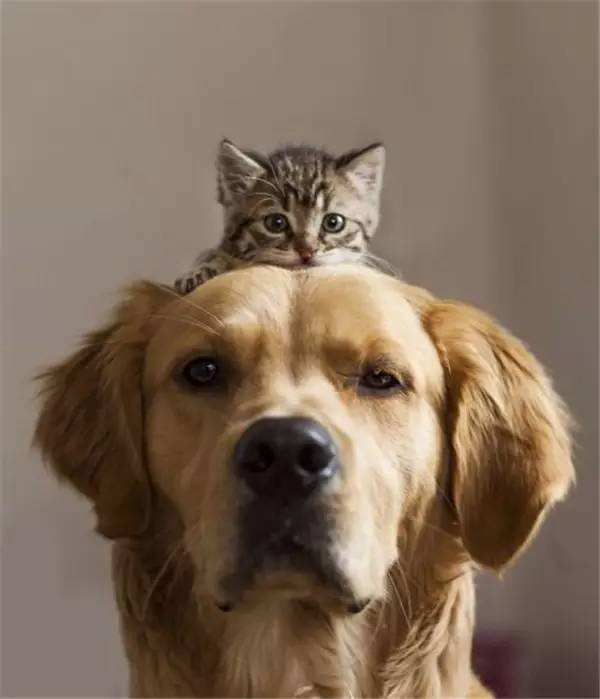cat: (180, 135, 404, 273)
